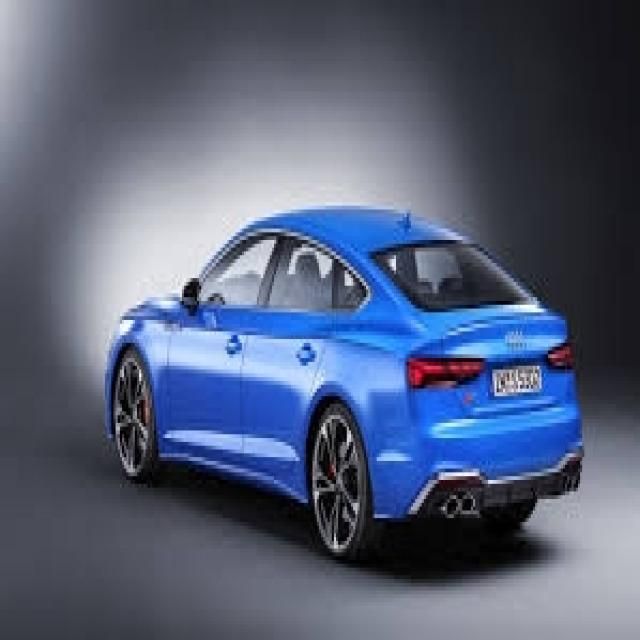blue: (101, 206, 584, 527)
